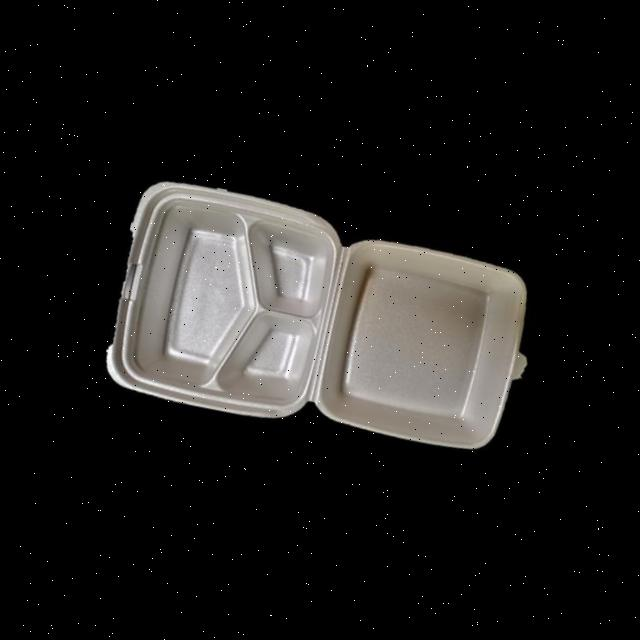styrofoam: (97, 170, 549, 468)
